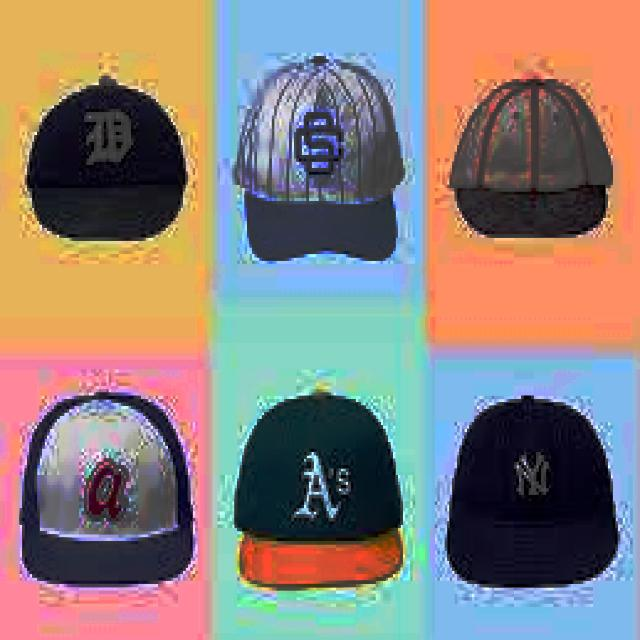TOPI: (228, 49, 406, 260), (12, 383, 193, 587), (230, 383, 403, 587), (442, 389, 616, 584), (445, 70, 613, 238), (22, 72, 188, 238)
